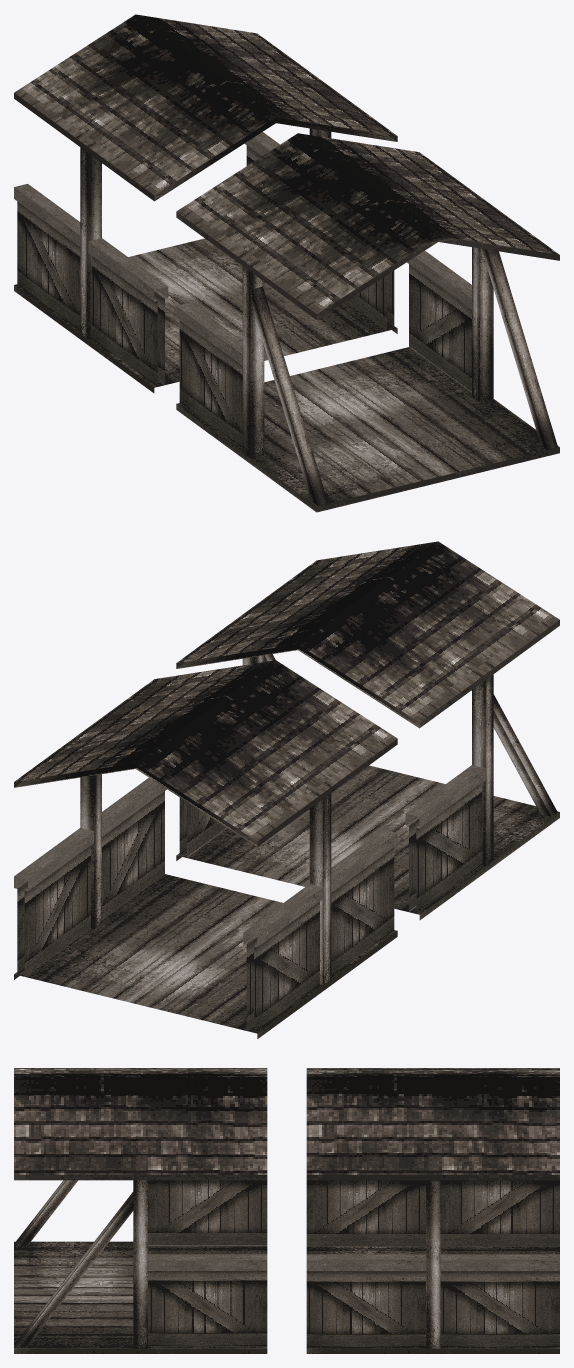
The model's file is ps1_style_modular_bridge_for_game_jam.glb.
3 views of the same model, one above another, from view 1: azimuth 30°, elevation 25°; view 2: azimuth 150°, elevation 25°; view 3: azimuth 270°, elevation 25° (orthographic). The views are drawn at different scales.
Visible parts, largest first — view 1: Cube.001, Cube.008; view 2: Cube.008, Cube.001; view 3: Cube.008, Cube.001.
Boxes of the visible parts, x1,y1,x2,y2 form: Cube.001: (176, 133, 559, 512); Cube.008: (14, 14, 397, 393); Cube.008: (14, 660, 397, 1038); Cube.001: (176, 541, 559, 920); Cube.008: (306, 1068, 559, 1353); Cube.001: (14, 1068, 267, 1353).
Bounding box in the file's own units: 3 × 2.91 × 6.47.
Materials: 2 (2 with a texture image).
